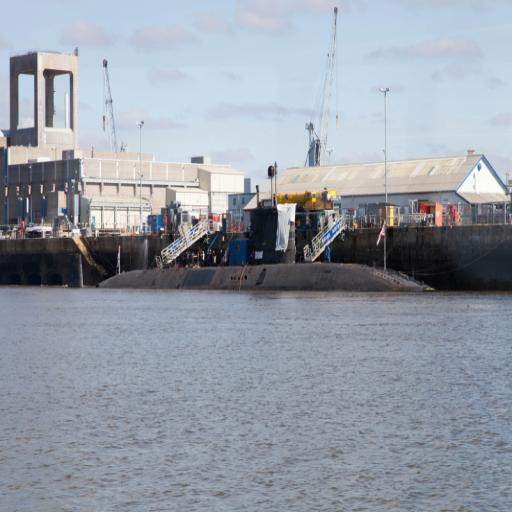submarine: (95, 197, 441, 292)
